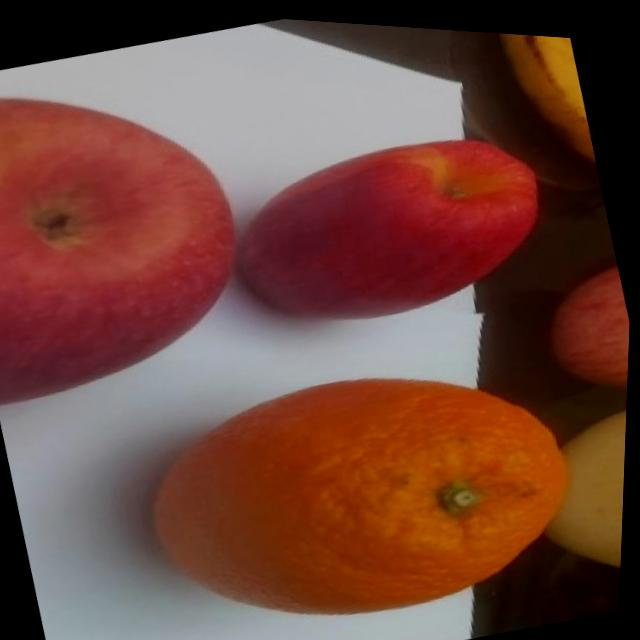Apple: (0, 45, 274, 421), (217, 101, 565, 353), (534, 253, 633, 401)
Banana: (480, 25, 599, 171)
Orange: (127, 315, 601, 640)
